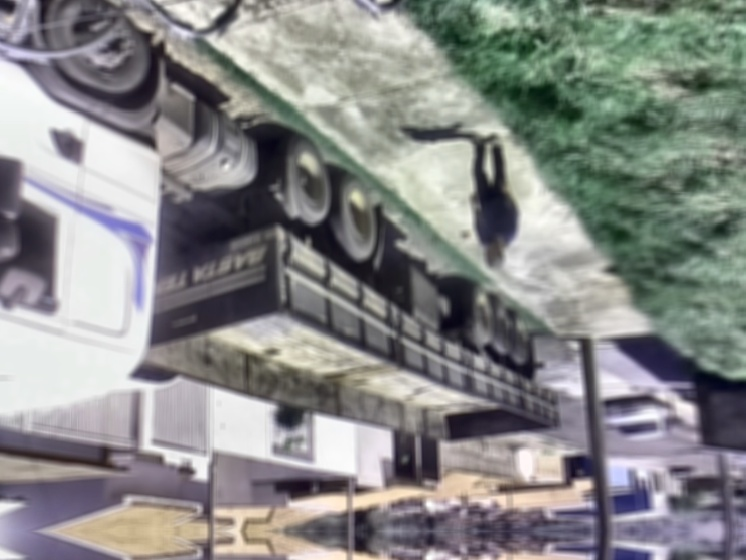person: (465, 129, 523, 271)
